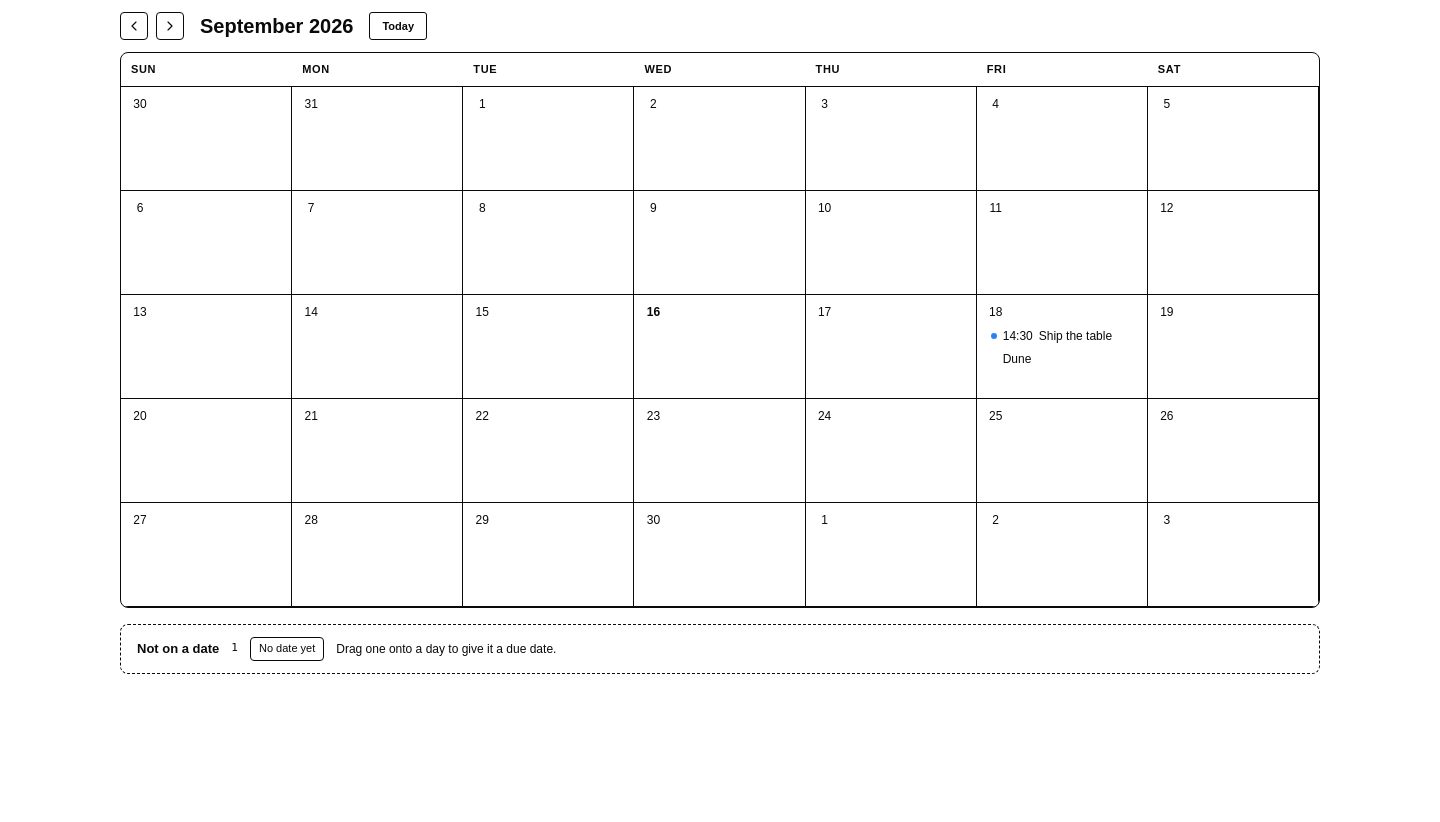
Test: UnifiedCalendar › marks today, and moves between months
This screenshot has width=1440, height=822.
Click the button named "Next month".
click(170, 26)  # box [156,12,184,40]
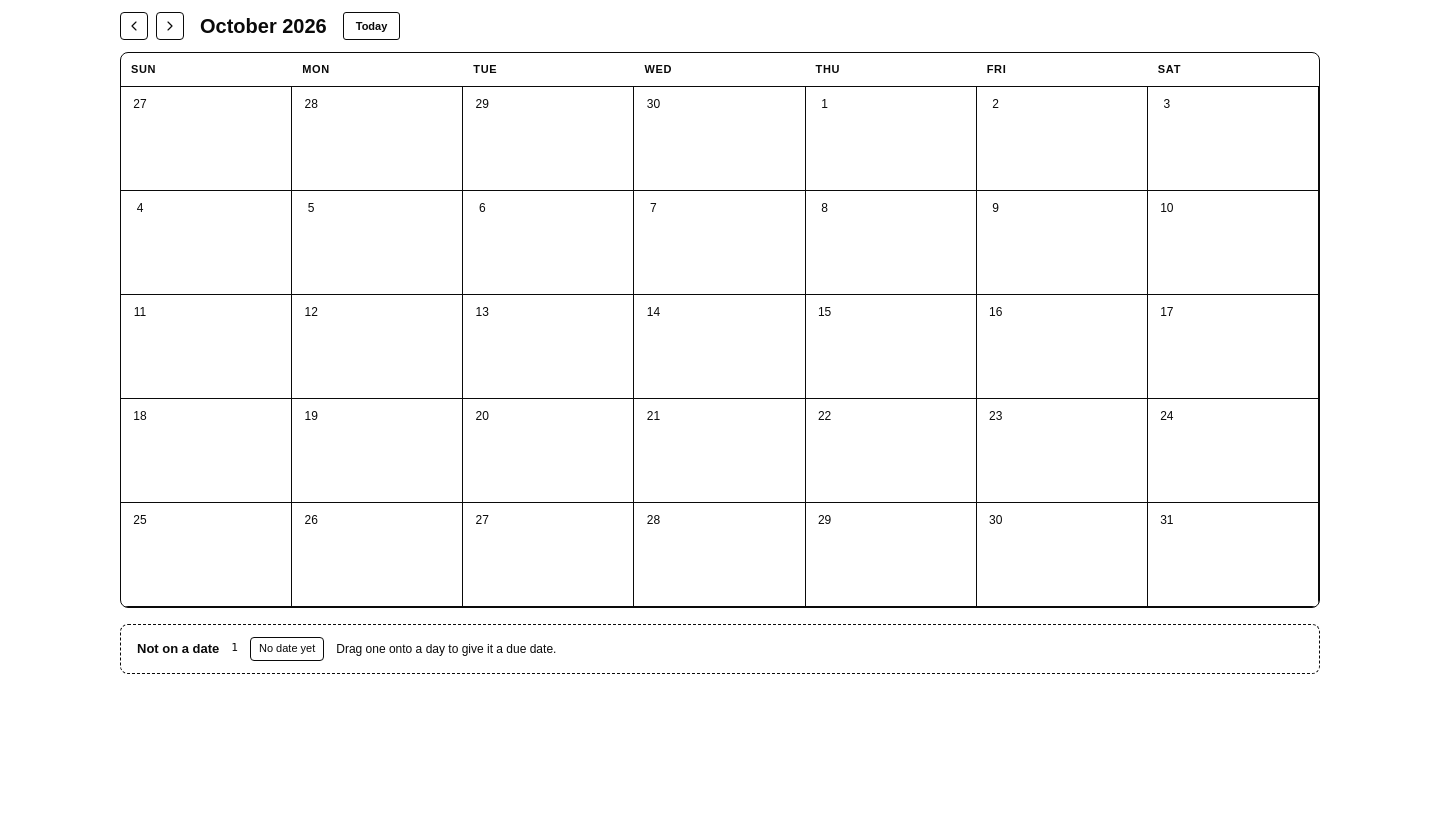
Now the heading "October 2026" is shown, box [200,14,327,38]
Click the button "Today".
click(372, 26)  # box [343,12,400,40]
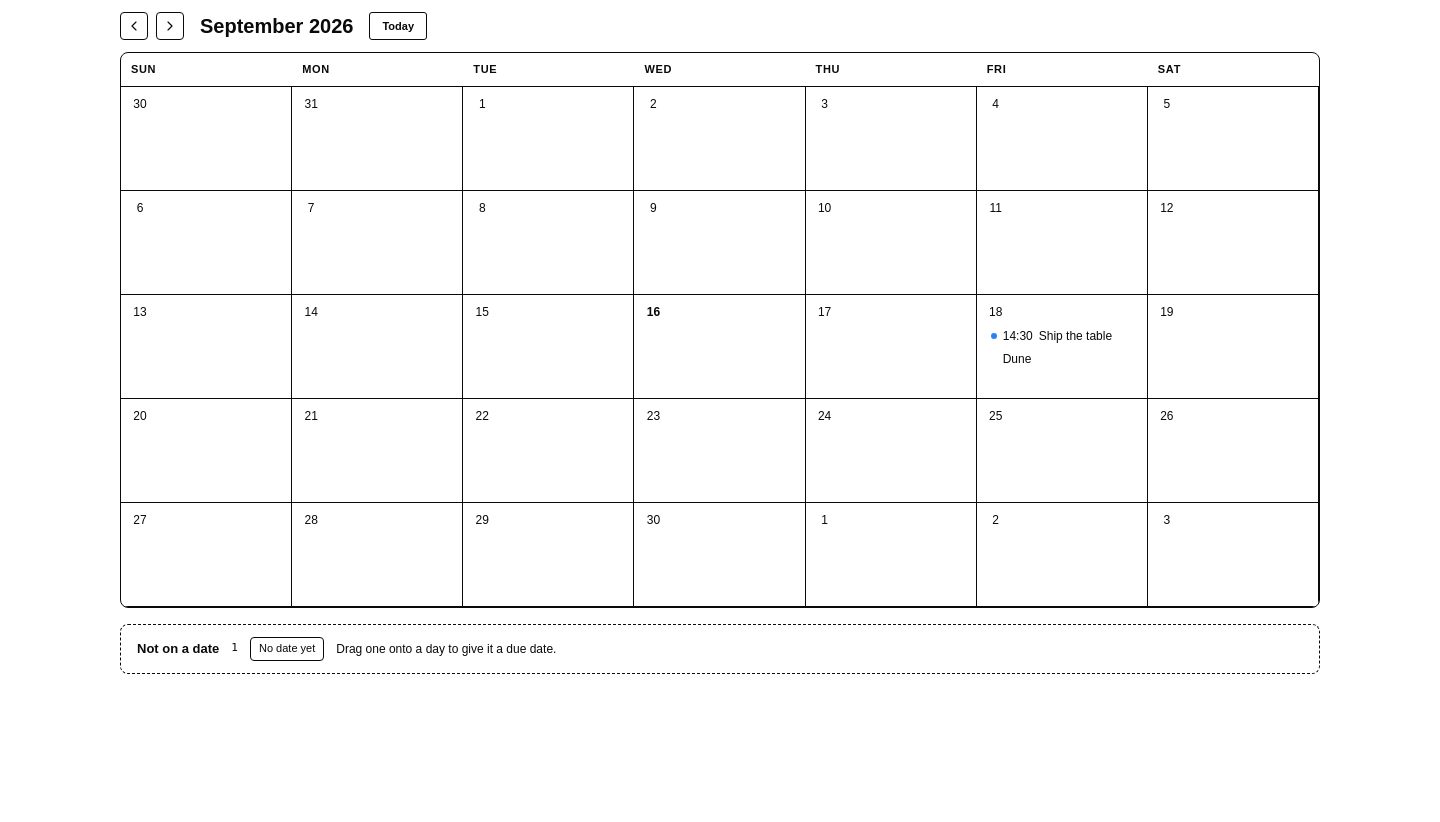
Now the heading "September 2026" is shown, box [200,14,353,38]
